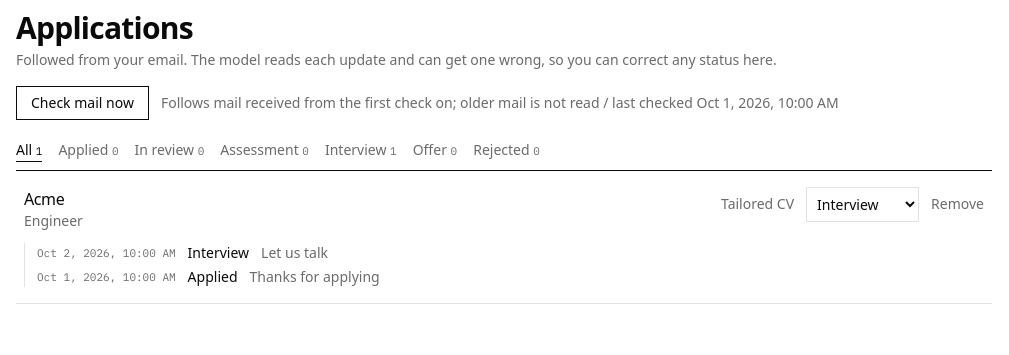
Test case: Applications › filters by status
The image size is (1009, 355).
Expected: the text "Acme" is shown, x1=24 y1=188 x2=64 y2=210
What coordinates should you click on to do the following:
click the button "Rejected 0"
I would click on:
 (507, 151)
Its box is x1=473 y1=140 x2=540 y2=162.
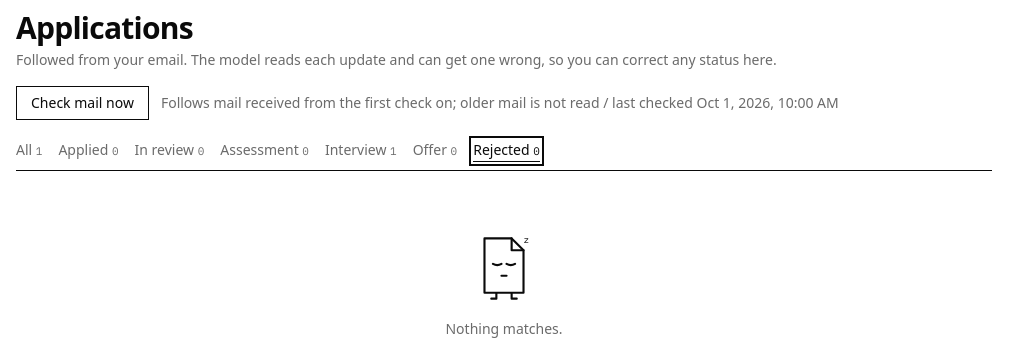
Now the text "Acme" is gone
Now the text "Nothing matches." is shown, box x1=446 y1=319 x2=563 y2=339
